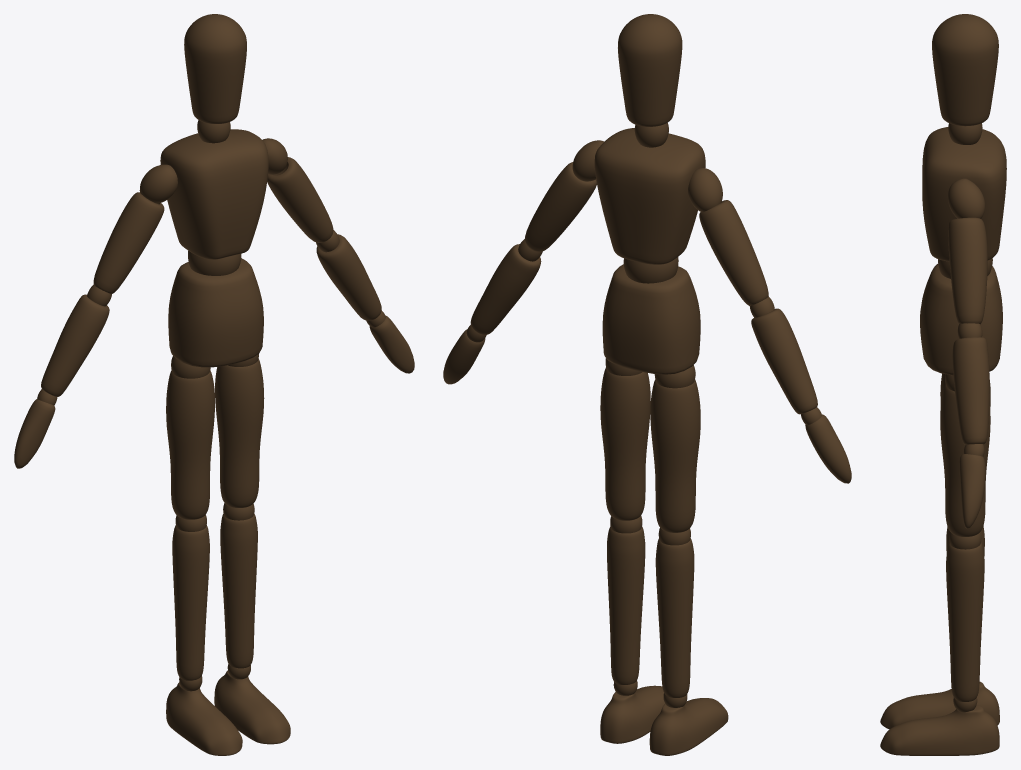
File: mannequin.obj
The picture shows the model from 3 angles, left to right: view 1: azimuth 30°, elevation 25°; view 2: azimuth 150°, elevation 25°; view 3: azimuth 270°, elevation 25°; orthographic projection. The views are drawn at different scales.
Visible parts, largest first — view 1: Stick-man_Sphere.004; view 2: Stick-man_Sphere.004; view 3: Stick-man_Sphere.004.
Boxes of the visible parts, left/top/right/bottom form: Stick-man_Sphere.004: left=14, top=14, right=414, bottom=755; Stick-man_Sphere.004: left=443, top=14, right=851, bottom=755; Stick-man_Sphere.004: left=880, top=14, right=1006, bottom=755.
Size of the model in its own units: 7.03 by 11.84 by 1.89.
